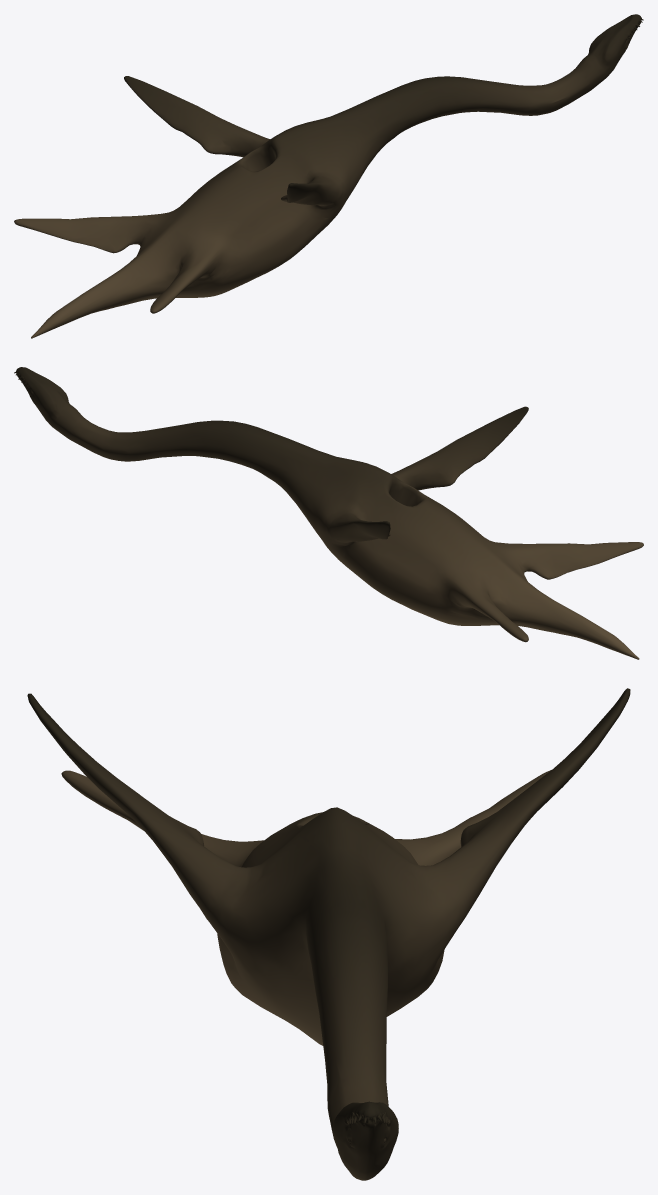
File: plesiosaurus.glb
The picture shows the model from 3 angles, top to bottom: view 1: azimuth 30°, elevation 25°; view 2: azimuth 150°, elevation 25°; view 3: azimuth 270°, elevation 25°; orthographic projection. The views are drawn at different scales.
Parts seen in each view (by area): view 1: plesiosaurus_plain; view 2: plesiosaurus_plain; view 3: plesiosaurus_plain.
Part boxes in pixels (left/top/right/bottom): plesiosaurus_plain: left=14, top=14, right=643, bottom=338; plesiosaurus_plain: left=14, top=367, right=643, bottom=659; plesiosaurus_plain: left=27, top=688, right=630, bottom=1180.
Size of the model in its own units: 74.1 by 18.91 by 31.77.
